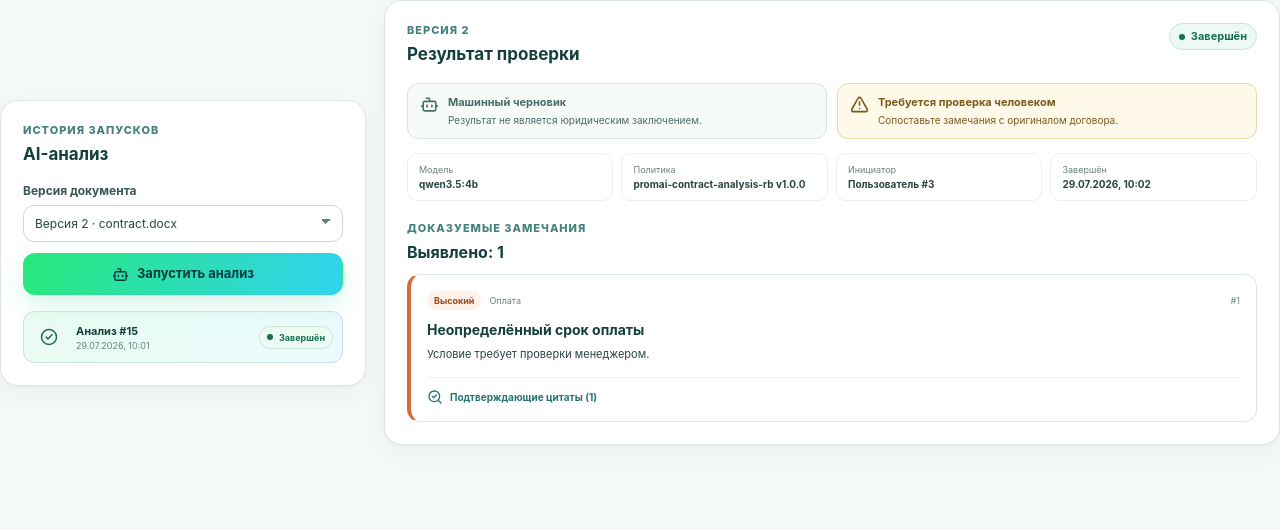
contract analysis polling › показывает машинный черновик, риск и проверенную цитату
Expected: the text "Машинный черновик" is shown, [448,95,566,109]
Expected: the heading "Неопределённый срок оплаты" is shown, [427,321,644,338]
Click the heading "Подтверждающие цитаты (1)" at (512, 397), box [427,389,597,405]
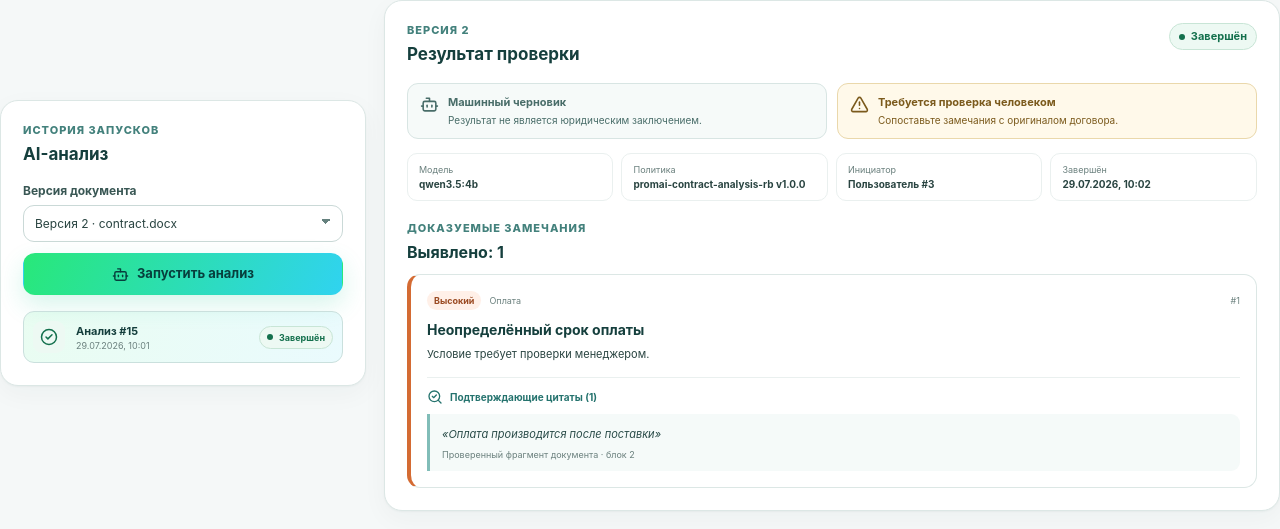
Expected: the text "«Оплата производится после поставки»" is shown, [442,427,661,441]
